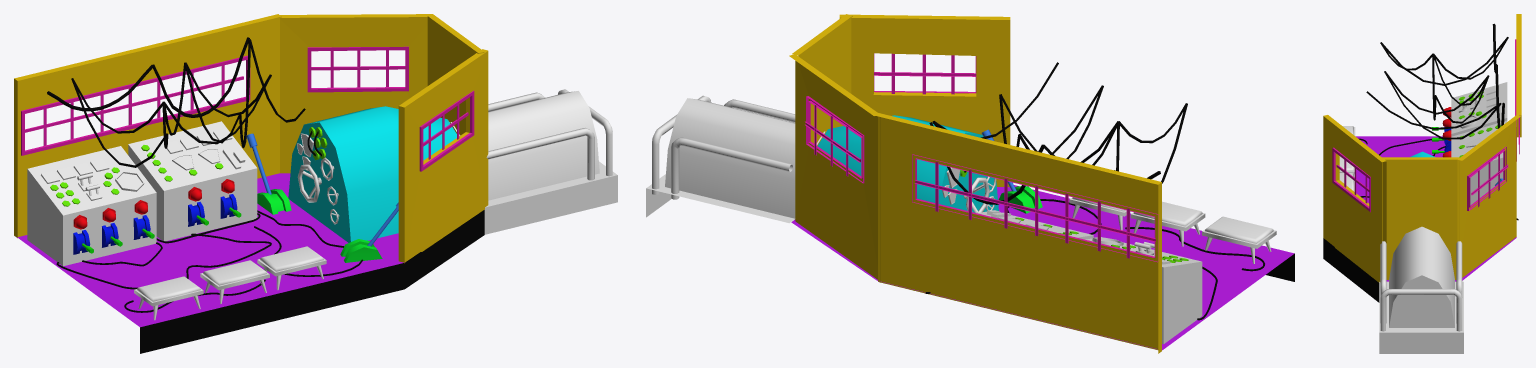
The model's file is ultimo_vagao.fbx.
3 renders of one model, left to right at view 1: azimuth 30°, elevation 25°; view 2: azimuth 150°, elevation 25°; view 3: azimuth 270°, elevation 25°, orthographic. The views are drawn at different scales.
Parts seen in each view (by area): view 1: ParedeDentro4.002, Chao2, Circle, Circle.020, Cube.001, Cube, Grade_janela.001, Catenary.004, Cube.004, Cube.022, Cube.002, Cube.003 (+6 smaller); view 2: ParedeDentro4.002, Circle.020, Chao2, Grade_janela.001, Catenary.004, Circle, Cube.001, Cube.022, Cube.004, Cube.002, Circle.019, Cube.003; view 3: ParedeDentro4.002, Circle.020, Chao2, Catenary.004, Cube.004, Grade_janela.001, Cube, Cube.001, Circle.025, Cube.011, Cube.003.
Boxes of the visible parts, bbox=[...] form: ParedeDentro4.002: bbox=[14, 14, 488, 263]; Chao2: bbox=[17, 173, 484, 353]; Circle: bbox=[288, 106, 456, 242]; Circle.020: bbox=[449, 89, 612, 200]; Cube.001: bbox=[27, 146, 156, 266]; Cube: bbox=[128, 121, 257, 241]; Grade_janela.001: bbox=[21, 46, 474, 171]; Catenary.004: bbox=[47, 37, 362, 312]; Cube.004: bbox=[484, 161, 617, 234]; Cube.022: bbox=[134, 276, 203, 320]; Cube.002: bbox=[200, 260, 269, 303]; Cube.003: bbox=[257, 246, 326, 290]; ParedeDentro4.002: bbox=[789, 14, 1161, 353]; Circle.020: bbox=[652, 95, 825, 219]; Chao2: bbox=[791, 185, 1294, 350]; Grade_janela.001: bbox=[805, 53, 1158, 262]; Catenary.004: bbox=[925, 62, 1264, 320]; Circle: bbox=[817, 115, 998, 212]; Cube.001: bbox=[1085, 237, 1202, 344]; Cube.022: bbox=[1202, 216, 1276, 263]; Cube.004: bbox=[646, 174, 794, 223]; Cube.002: bbox=[1130, 201, 1205, 246]; Circle.019: bbox=[998, 186, 1042, 213]; Cube.003: bbox=[1069, 197, 1130, 230]; ParedeDentro4.002: bbox=[1323, 14, 1521, 282]; Circle.020: bbox=[1380, 226, 1462, 331]; Chao2: bbox=[1323, 136, 1516, 302]; Catenary.004: bbox=[1358, 23, 1518, 220]; Cube.004: bbox=[1379, 281, 1463, 353]; Grade_janela.001: bbox=[1332, 39, 1519, 212]; Cube: bbox=[1451, 120, 1507, 205]; Cube.001: bbox=[1451, 82, 1507, 136]; Circle.025: bbox=[1458, 91, 1501, 157]; Cube.011: bbox=[1486, 86, 1497, 158]; Cube.003: bbox=[1339, 173, 1354, 191].
Bounding box in the file's own units: 19444 × 6615 × 8294.
